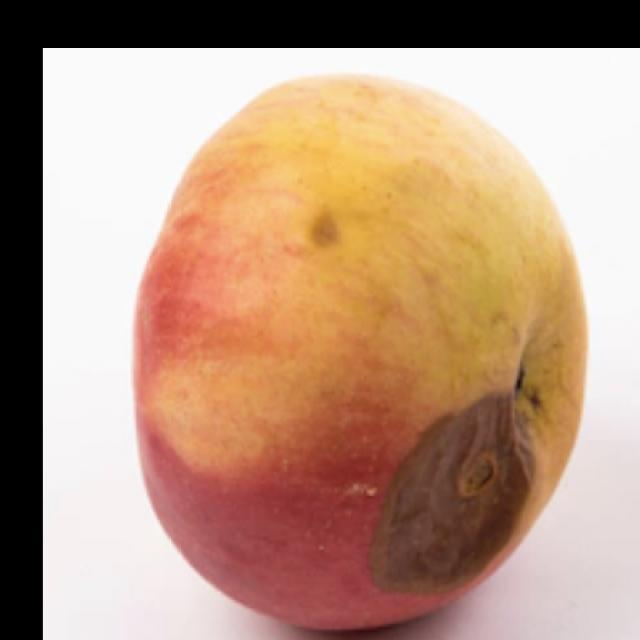Rotten: (137, 86, 578, 622)
